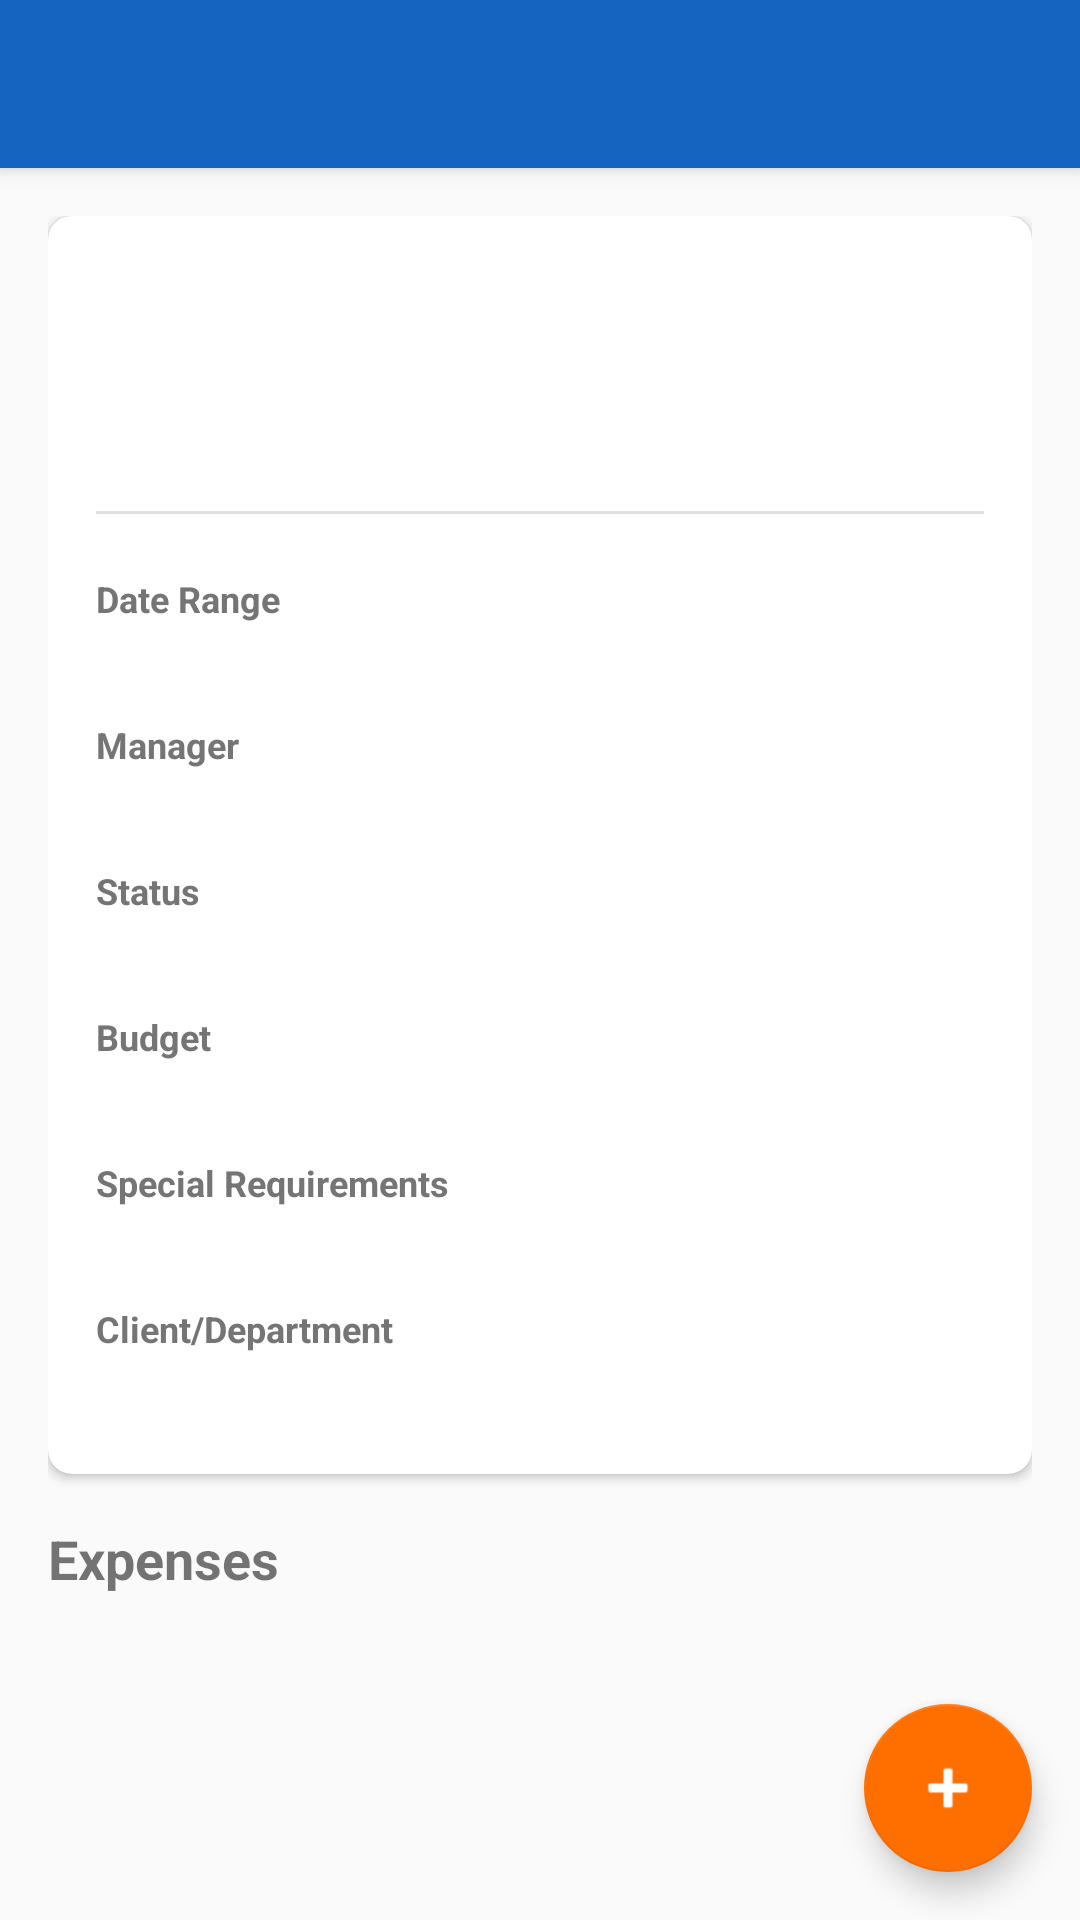

Icon click points for this 1080px×1920px phone screenshot, format point (x, y):
Add expense: point (948, 1788)
